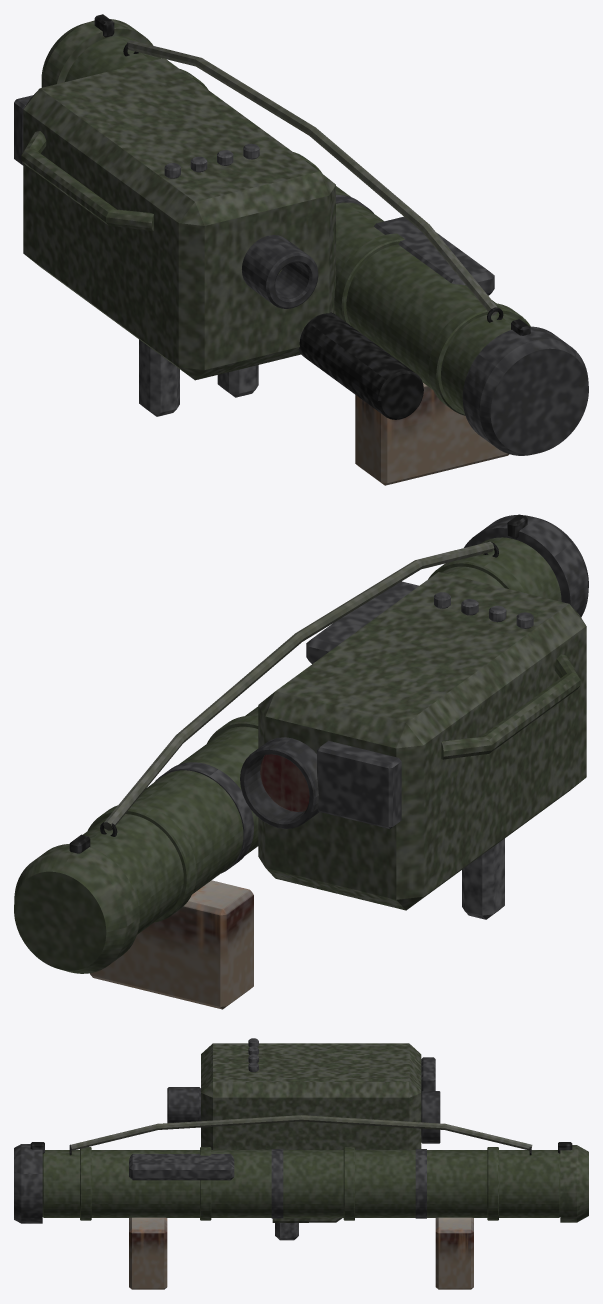
File: javelin.glb
The picture shows the model from 3 angles, top to bottom: view 1: azimuth 30°, elevation 25°; view 2: azimuth 150°, elevation 25°; view 3: azimuth 270°, elevation 25°; orthographic projection. The views are drawn at different scales.
Visible parts, largest first — view 1: paint_clu_eo_sight_body, paint_launch_tube, rubber_end_cap_rear, wood_display_chocks, alu_bcu_battery_unit, strap_sling, rubber_clu_eyecup, paint_tube_ribs, paint_clu_side_handles, rubber_shoulder_pad, paint_nose_housing_end_cap, plastic_clu_grip_left (+3 smaller); view 2: paint_clu_eo_sight_body, paint_launch_tube, paint_nose_housing_end_cap, wood_display_chocks, rubber_clu_window_hoods, strap_sling, rubber_end_cap_rear, paint_tube_ribs, paint_clu_side_handles, plastic_clu_grip_left, rubber_shoulder_pad, glass_clu_ir_window (+3 smaller); view 3: paint_launch_tube, paint_clu_eo_sight_body, wood_display_chocks, paint_tube_ribs, strap_sling, rubber_shoulder_pad, rubber_end_cap_rear, paint_nose_housing_end_cap, tape_tube_wraps, rubber_clu_window_hoods, rubber_clu_eyecup, plastic_clu_grip_right (+2 smaller).
Part boxes in pixels (x1,y1,x2,y2): paint_clu_eo_sight_body: (23, 58, 335, 380); paint_launch_tube: (64, 36, 517, 412); rubber_end_cap_rear: (462, 326, 588, 455); wood_display_chocks: (355, 383, 509, 485); alu_bcu_battery_unit: (298, 312, 423, 419); strap_sling: (127, 40, 497, 315); rubber_clu_eyecup: (242, 235, 318, 308); paint_tube_ribs: (180, 69, 530, 415); paint_clu_side_handles: (21, 131, 153, 230); rubber_shoulder_pad: (374, 216, 494, 295); paint_nose_housing_end_cap: (41, 19, 153, 87); plastic_clu_grip_left: (139, 339, 179, 416); paint_clu_eo_sight_body: (258, 572, 586, 910); paint_launch_tube: (83, 537, 561, 934); paint_nose_housing_end_cap: (14, 844, 139, 973); wood_display_chocks: (90, 880, 253, 1009); rubber_clu_window_hoods: (240, 737, 401, 828); strap_sling: (103, 541, 494, 830); rubber_end_cap_rear: (464, 515, 588, 617); paint_tube_ribs: (87, 556, 525, 922); paint_clu_side_handles: (441, 654, 580, 759); plastic_clu_grip_left: (462, 838, 504, 919); rubber_shoulder_pad: (306, 581, 418, 663); glass_clu_ir_window: (260, 754, 309, 811); paint_launch_tube: (42, 1150, 560, 1217); paint_clu_eo_sight_body: (201, 1043, 421, 1149); wood_display_chocks: (129, 1217, 473, 1289); paint_tube_ribs: (80, 1147, 498, 1220); strap_sling: (70, 1115, 532, 1150); rubber_shoulder_pad: (129, 1154, 234, 1180); rubber_end_cap_rear: (14, 1144, 42, 1223); paint_nose_housing_end_cap: (560, 1145, 588, 1222); tape_tube_wraps: (271, 1149, 426, 1218); rubber_clu_window_hoods: (421, 1057, 440, 1143); rubber_clu_eyecup: (167, 1087, 200, 1123); plastic_clu_grip_right: (275, 1223, 298, 1240).
Size of the model in its own units: 0.4623 by 0.405 by 1.2.
1 material, 1 textured.
